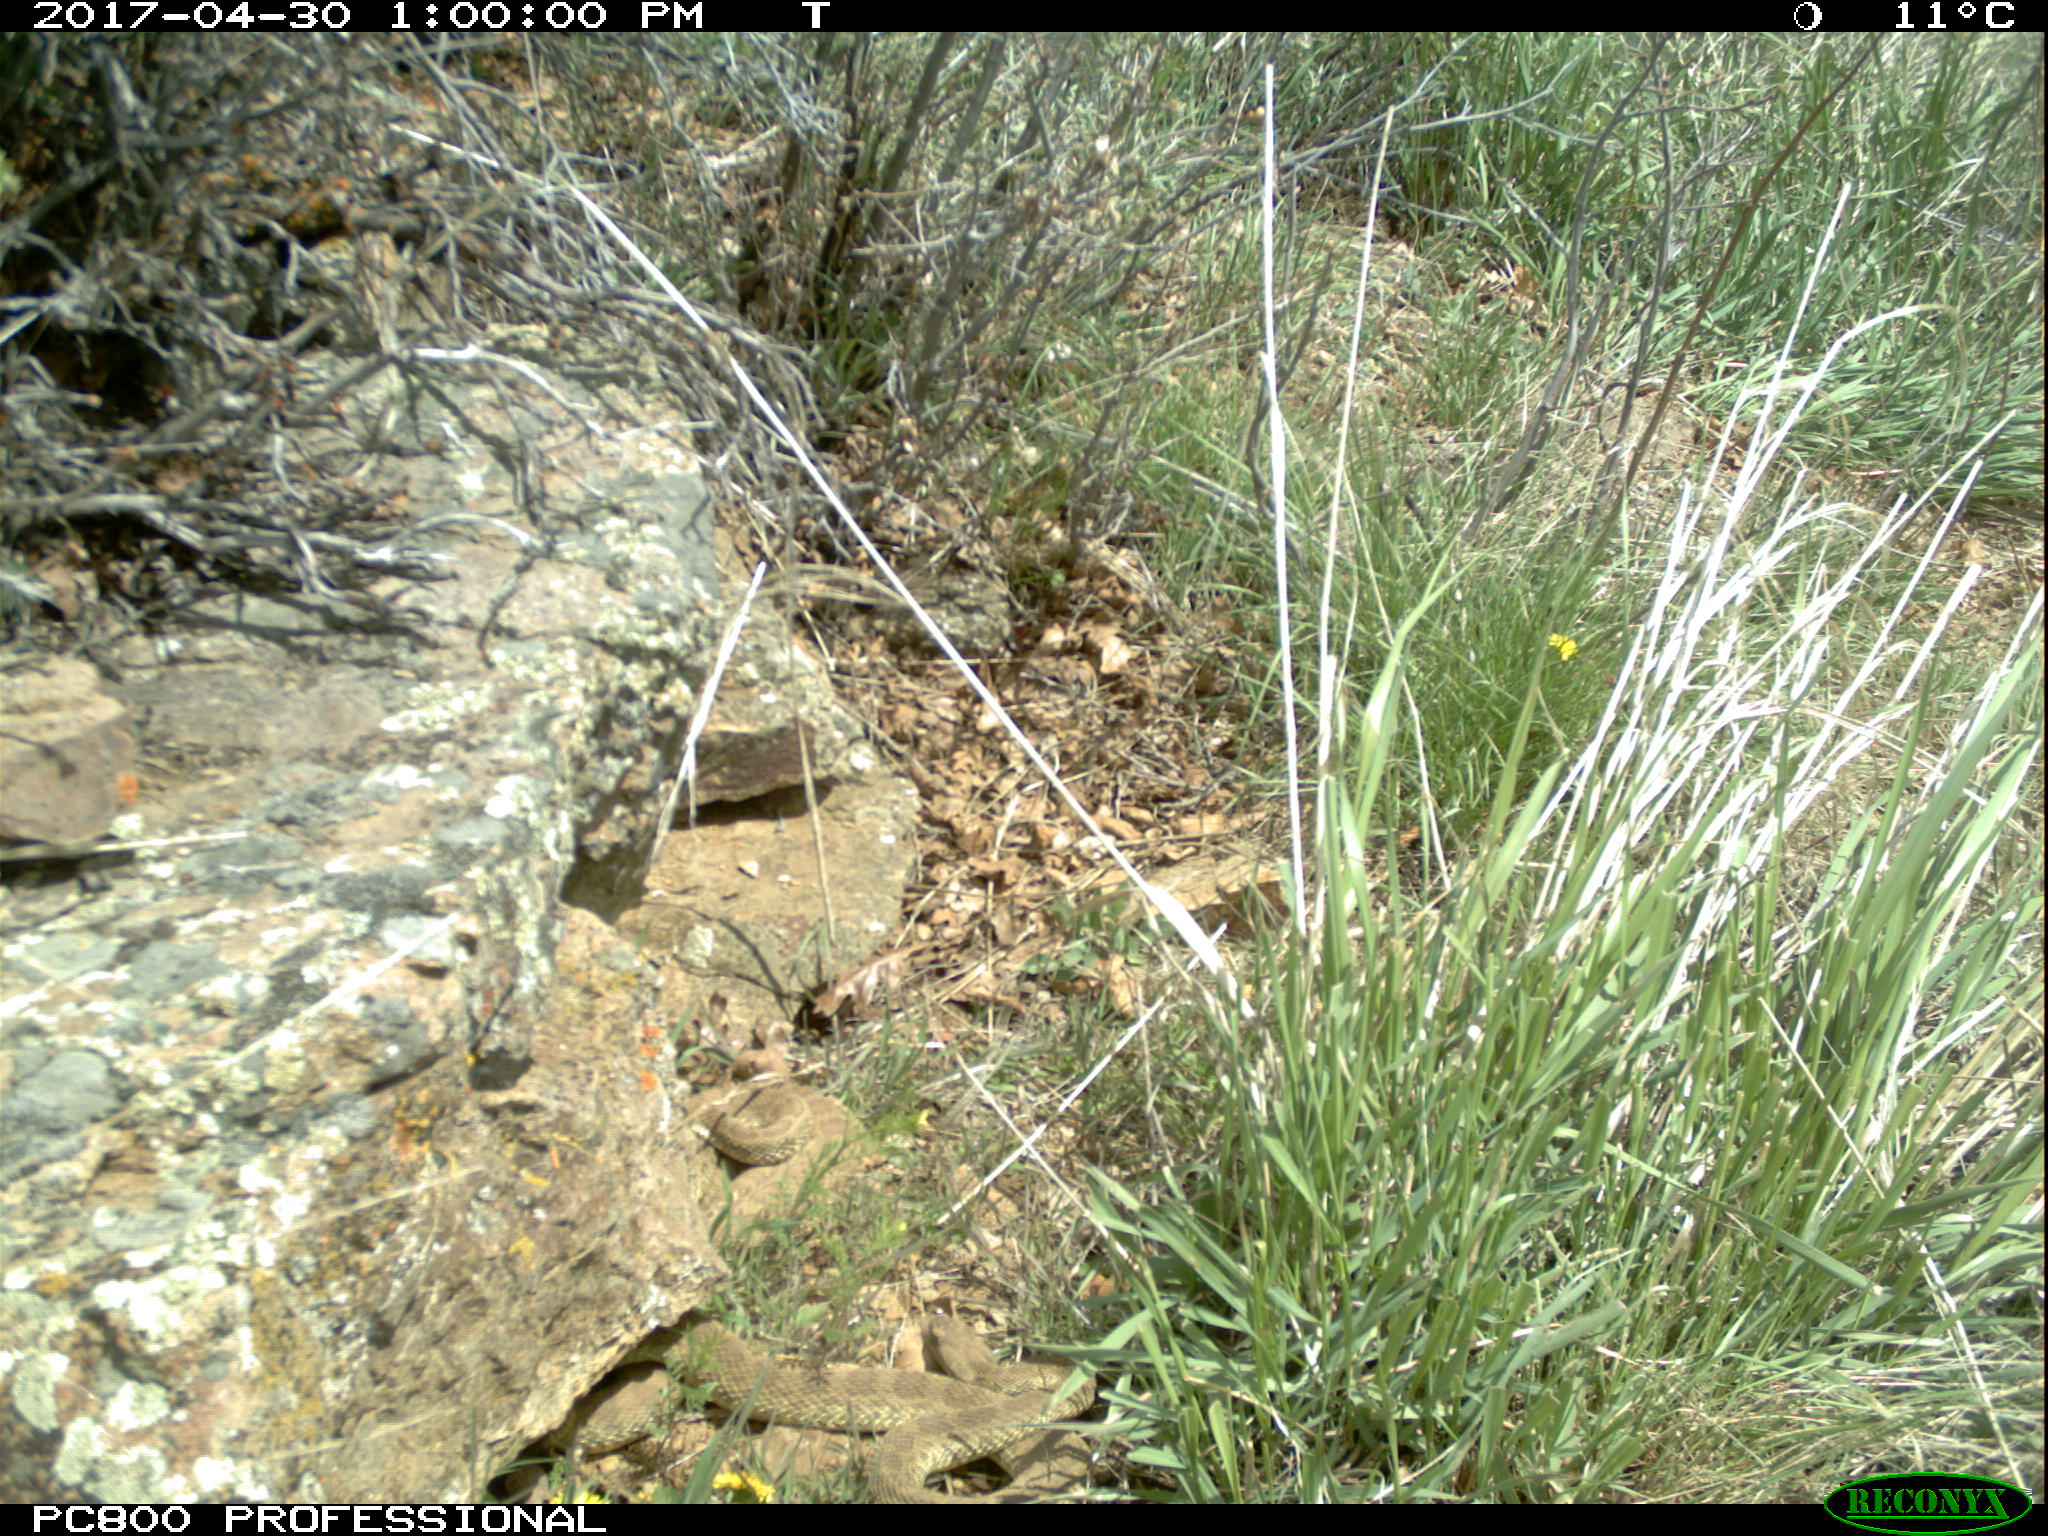snake: (564, 1075, 1105, 1497)
